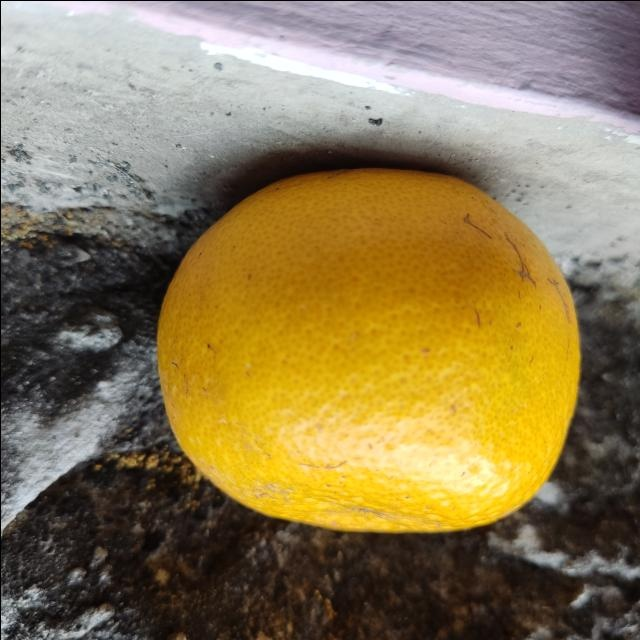agrume: (154, 162, 582, 535)
